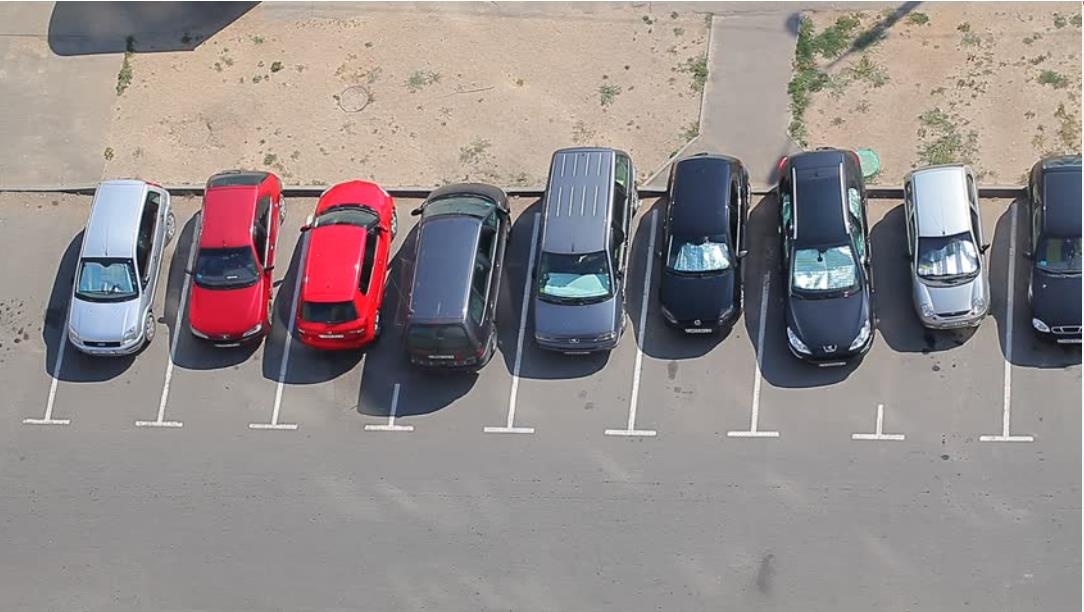car: (764, 146, 881, 375), (529, 142, 643, 360), (286, 176, 400, 357), (66, 175, 178, 359), (404, 179, 508, 374), (186, 168, 278, 356), (659, 148, 748, 341), (899, 160, 998, 332), (1020, 152, 1084, 355)
